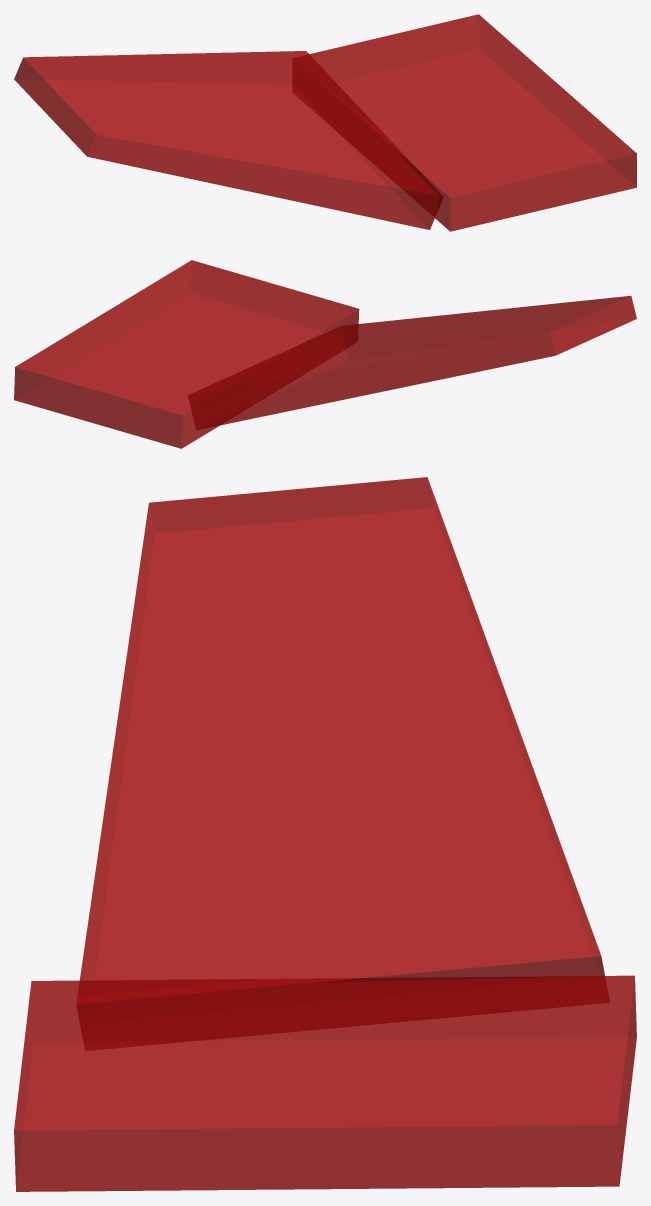
The model's file is SM_Prop_Wreckage_01_Collision.fbx.
The picture shows the model from 3 angles, top to bottom: view 1: azimuth 30°, elevation 25°; view 2: azimuth 150°, elevation 25°; view 3: azimuth 270°, elevation 25°; orthographic projection. The views are drawn at different scales.
Visible parts, largest first — view 1: SM_Prop_Wreckage_01_Collision; view 2: SM_Prop_Wreckage_01_Collision; view 3: SM_Prop_Wreckage_01_Collision.
Boxes of the visible parts, x1,y1,x2,y2 form: SM_Prop_Wreckage_01_Collision: [14, 14, 636, 231]; SM_Prop_Wreckage_01_Collision: [14, 260, 636, 448]; SM_Prop_Wreckage_01_Collision: [14, 477, 636, 1191].
Size of the model in its own units: 842 by 271 by 494.
